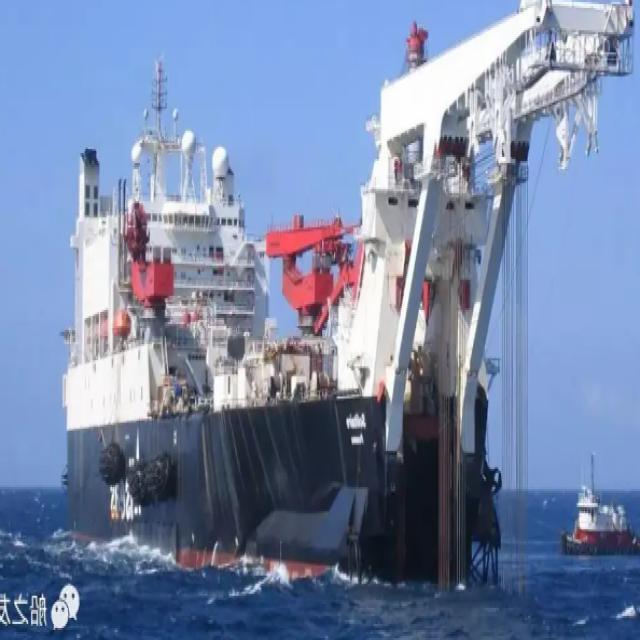cargoship: (60, 0, 639, 570), (562, 453, 640, 559)
